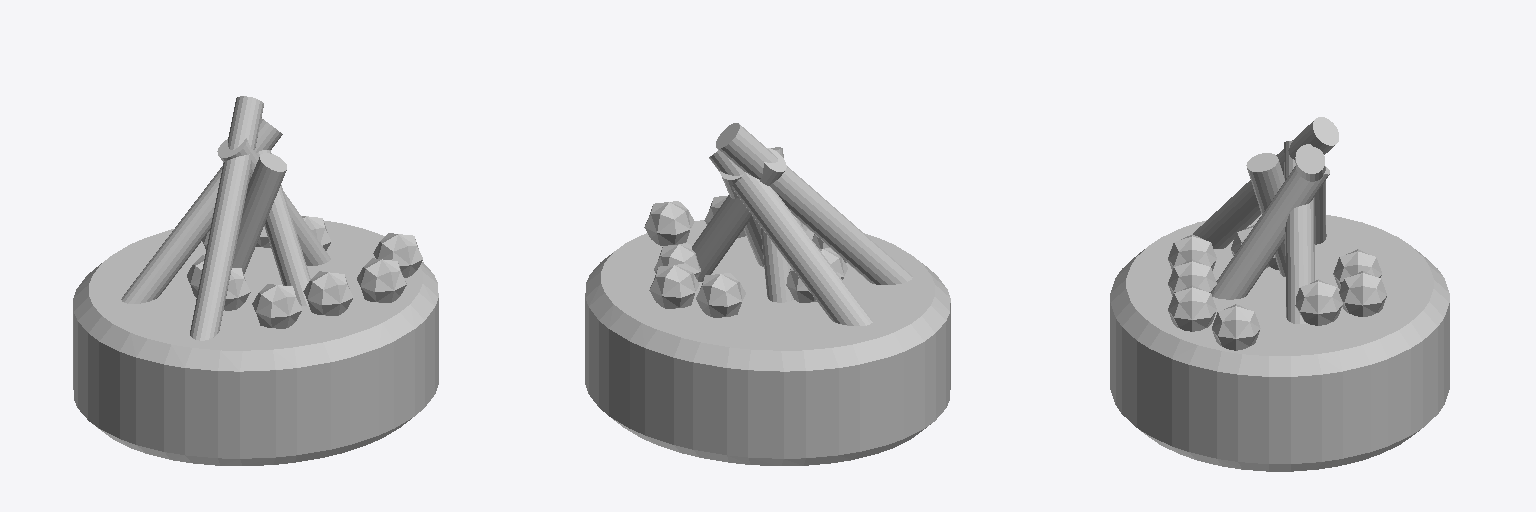
File: camp fire.obj
3 renders of one model, left to right at view 1: azimuth 30°, elevation 25°; view 2: azimuth 150°, elevation 25°; view 3: azimuth 270°, elevation 25°, orthographic.
Visible parts, largest first — view 1: polySurface22; view 2: polySurface22; view 3: polySurface22.
Part boxes in pixels (x1,y1,x2,y2): polySurface22: (73, 96, 438, 465); polySurface22: (585, 123, 950, 465); polySurface22: (1110, 117, 1449, 471).
Bounding box in the file's own units: 7.59 × 6.42 × 6.88.